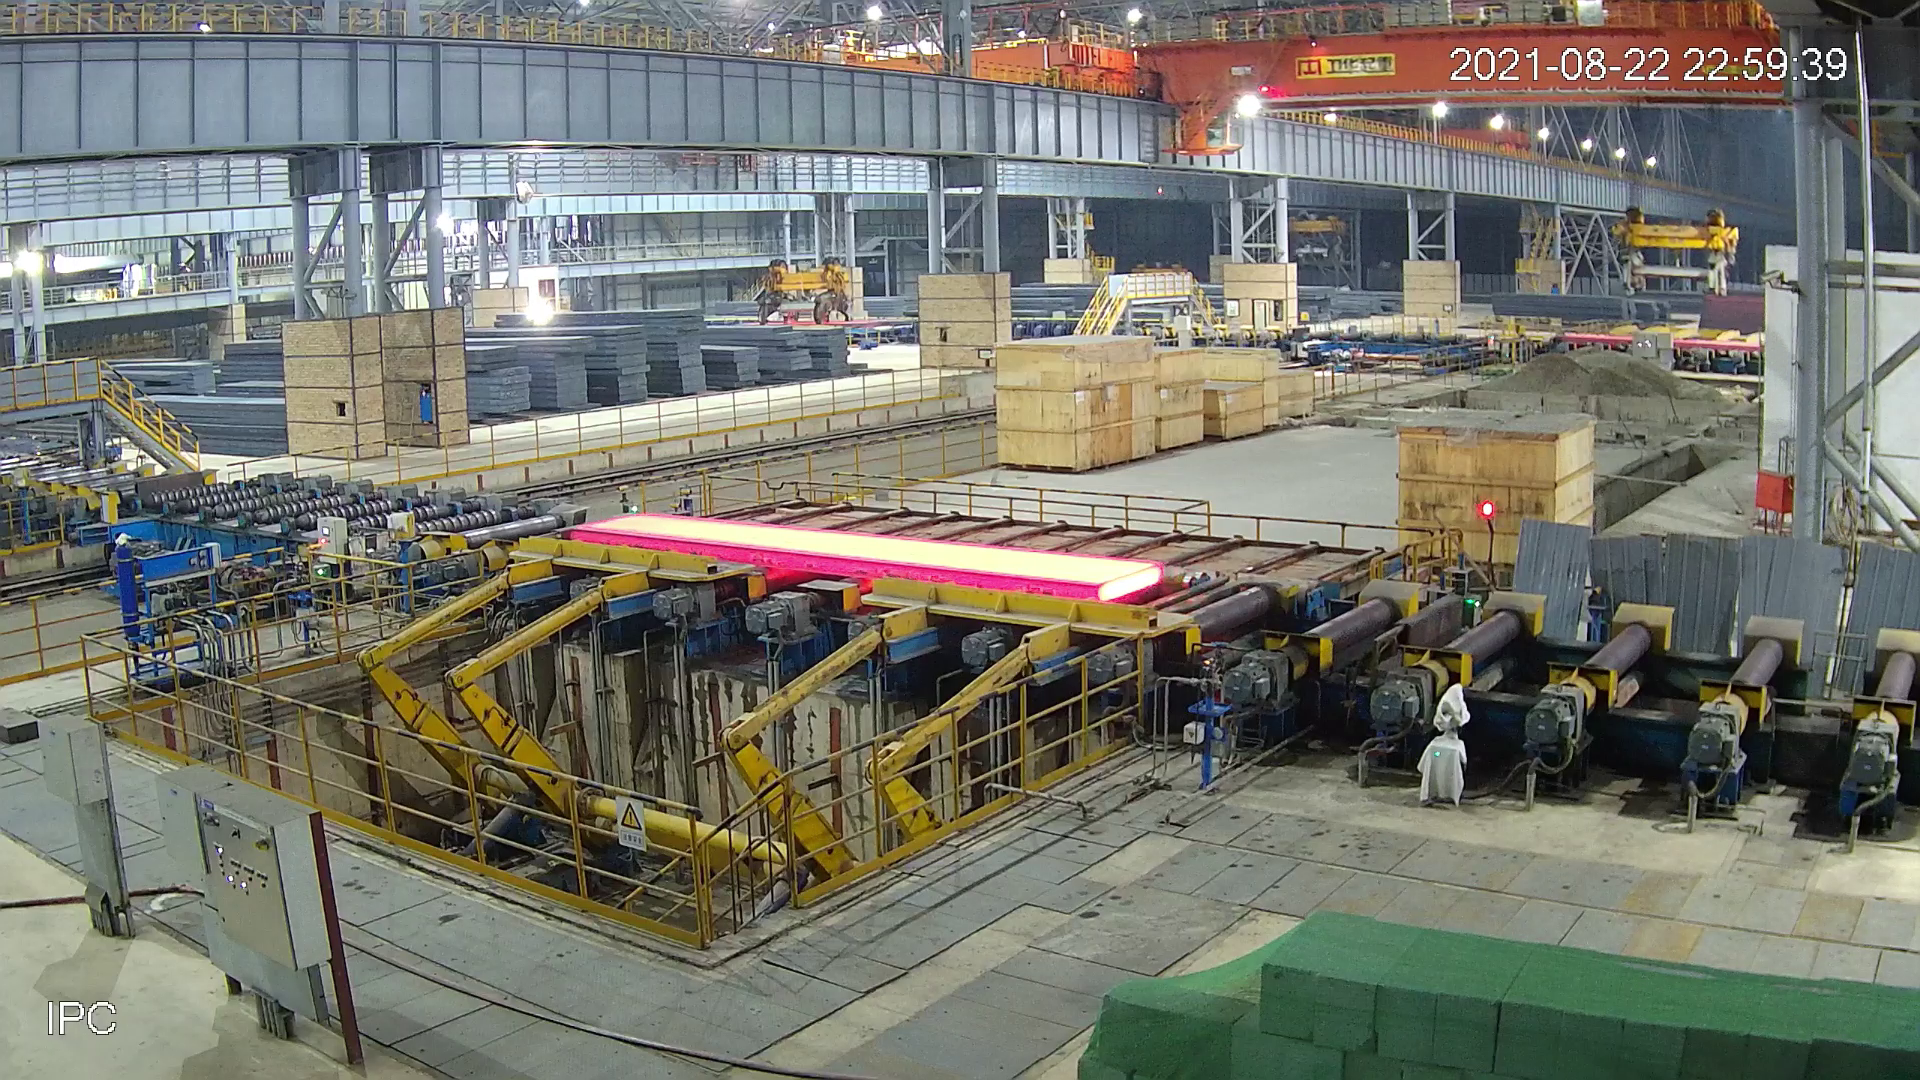slab: (568, 512, 1164, 601)
